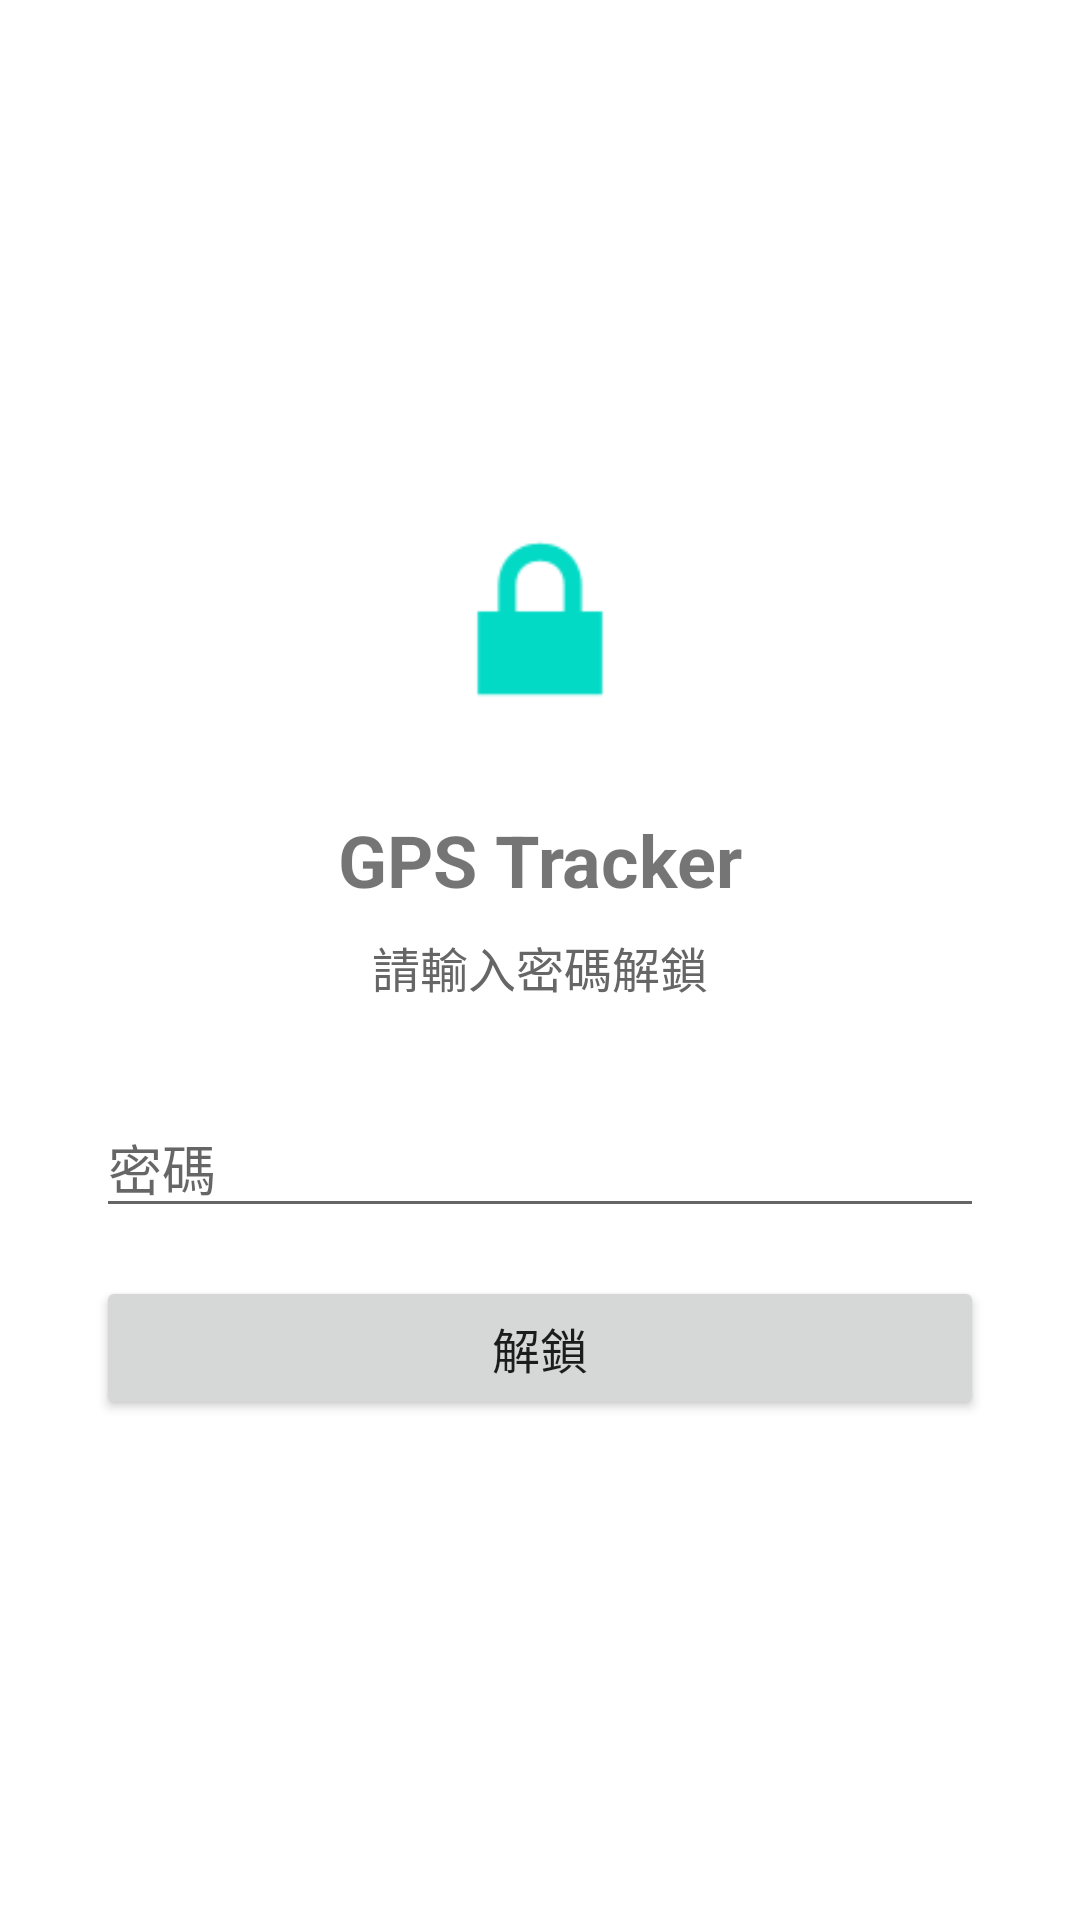

Named icons in this screenshot (1080w x 1920h) and their bounding boxes, (x1, y1, x2, y2):
lock: (477, 541, 603, 697)
